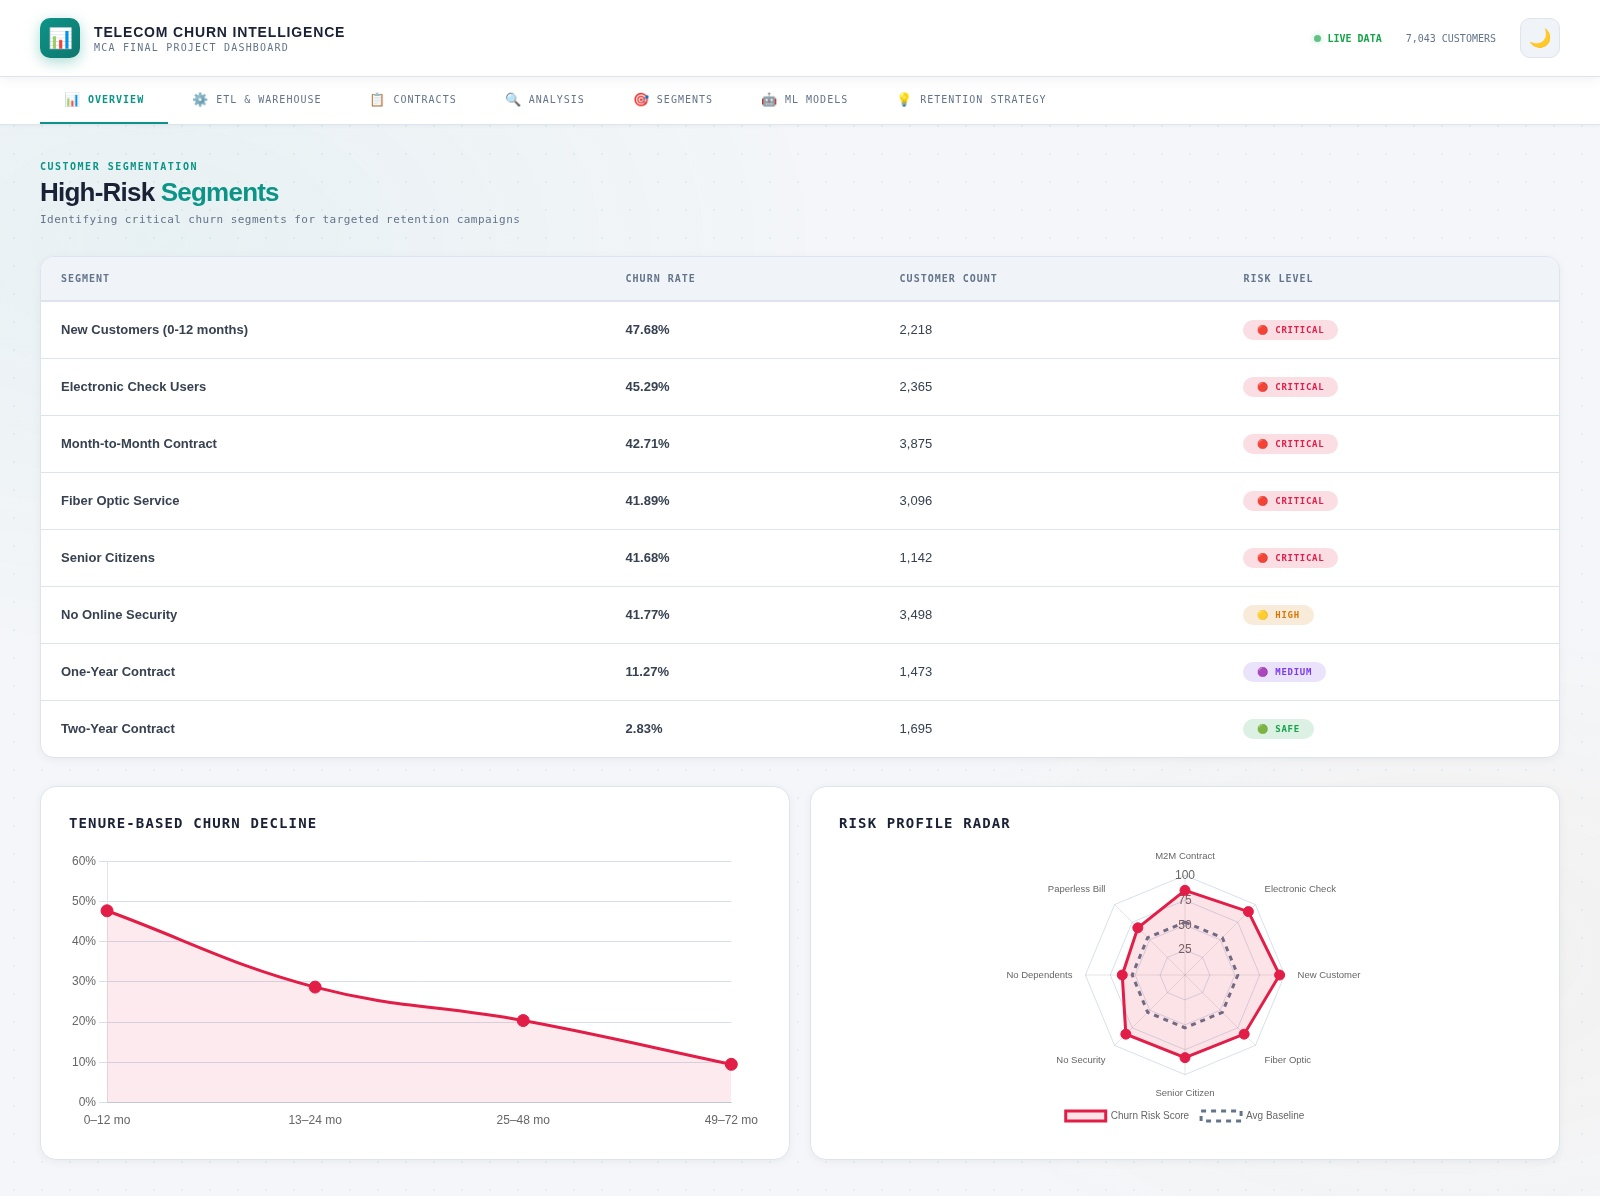

This screenshot's page, from the dashboard's own definition file:
{"tool":"powerbi","page":{"name":"Segmentation","canvas":[1280,720],"ordinal":4},"visuals":[{"type":"pivotTable","title":"Segment Risk Matrix","fields":{"Rows":["Segement Risk Matrix.Segment","Segement Risk Matrix.Category"],"Values":["Sum(Segement Risk Matrix.Churn Rate)","Sum(Segement Risk Matrix.Customers )","Min(Segement Risk Matrix.Risk Level)"]},"box":[0,107.6,522.1,612.6],"z":0},{"type":"areaChart","title":"Churn by Tenure Group","fields":{"Category":["powerbi_ready_churn_data.Tenure Group"],"Y":["powerbi_ready_churn_data.Churn Rate"]},"box":[539.3,107.6,730,299.6],"z":1000},{"type":"textbox","box":[0,0,1269.3,77],"z":2000}]}

Visuals, with their boxes on the page's 1280x720 design canvas (x1, y1, x2, y2). These are canvas units, not pixel positions in the 1600x1196 screenshot, which may show the page scaled, cropped or inside an application window:
"Segment Risk Matrix" pivotTable: 0:108:522:720
"Churn by Tenure Group" areaChart: 539:108:1269:407
textbox: 0:0:1269:77
